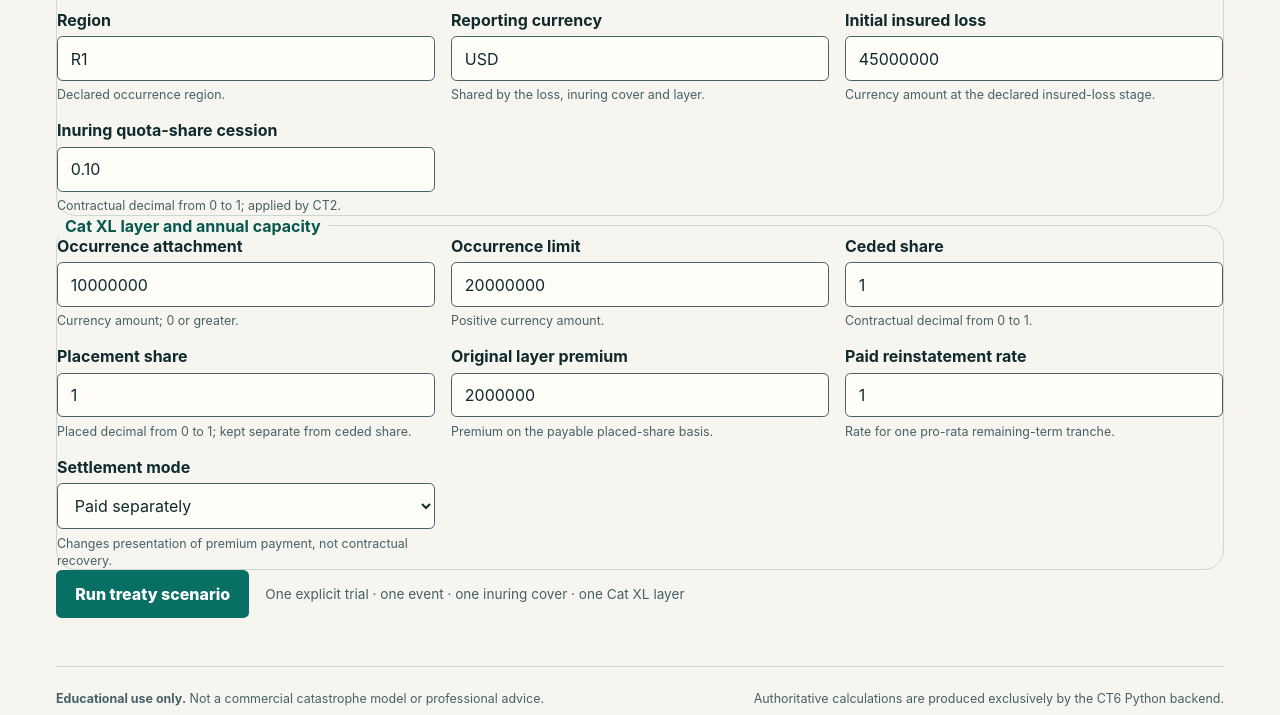
Test: Explore Treaty workflow › preserves the latest deterministic identity on the Audit Trail route
The width and height of the screenshot is (1280, 715).
(page scrolled)
Click the button "Run treaty scenario" at (153, 594), box [56,570,249,618]
(page scrolled)
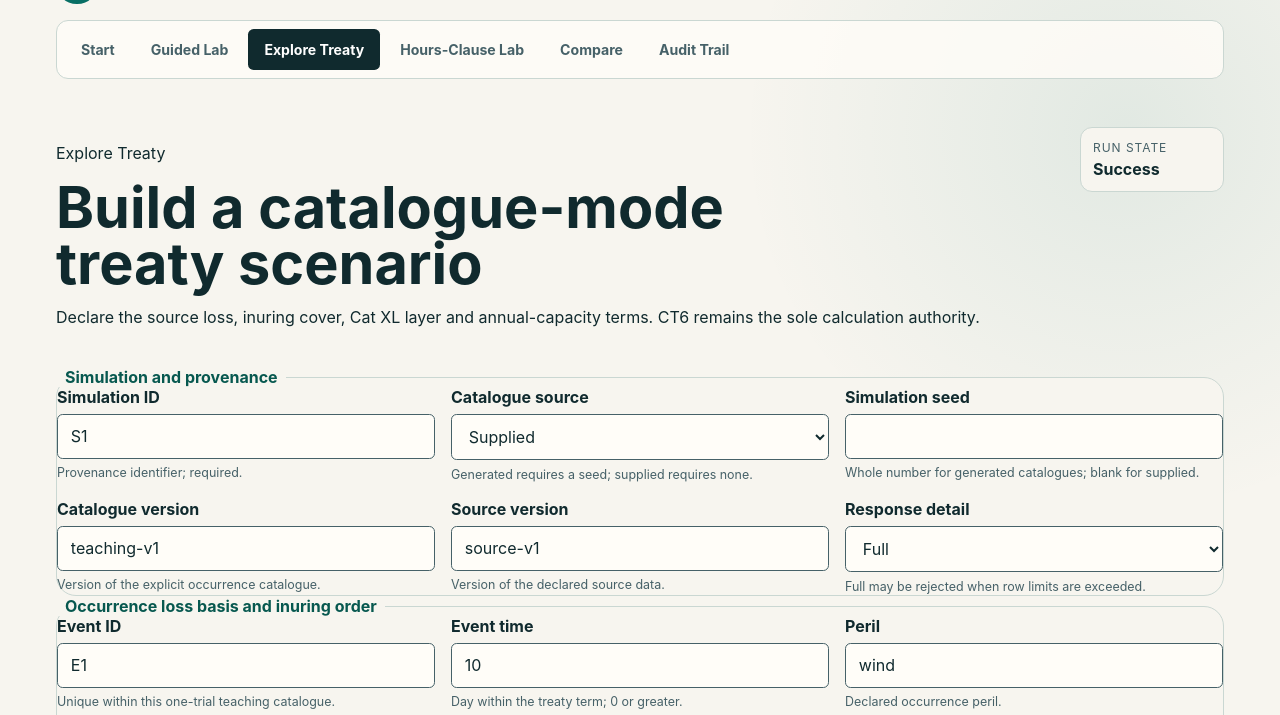
Click the link "Audit Trail" at (694, 49), box [659,41,729,58]
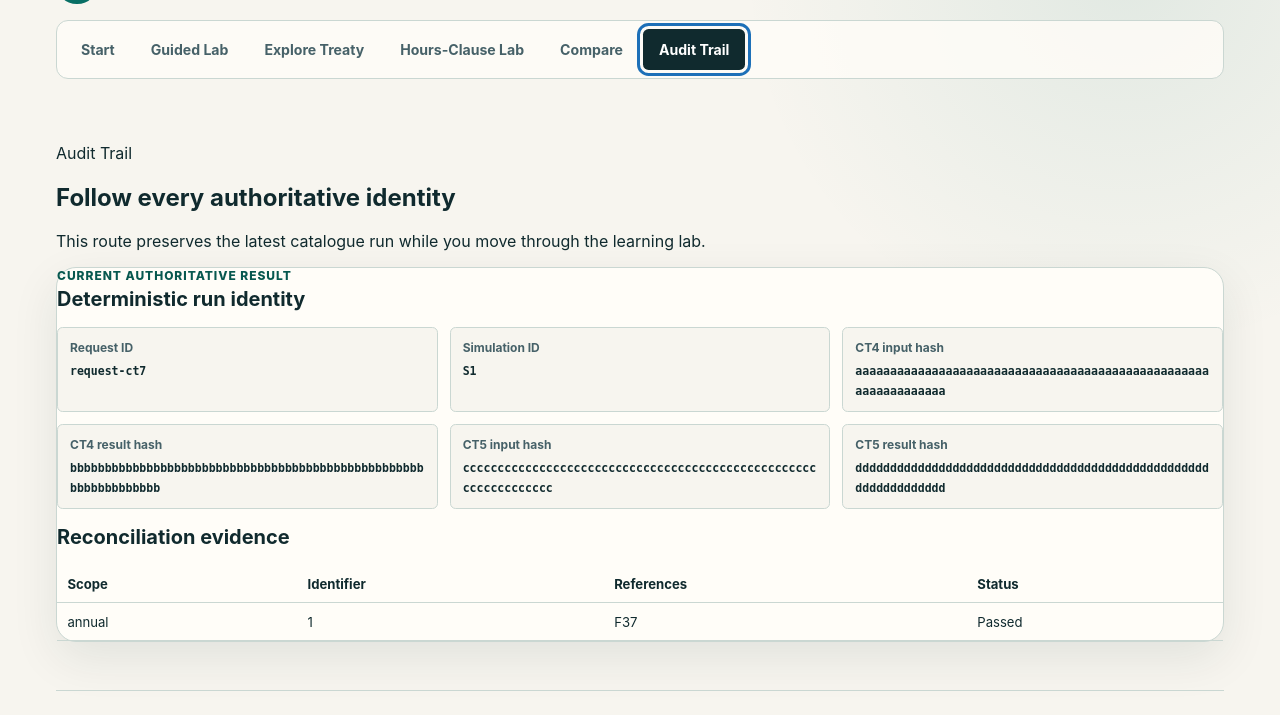
Expected: the text "request-ct7" is shown, [70,364,146,378]
Expected: the heading "Deterministic run identity" is shown, [57,287,305,311]
